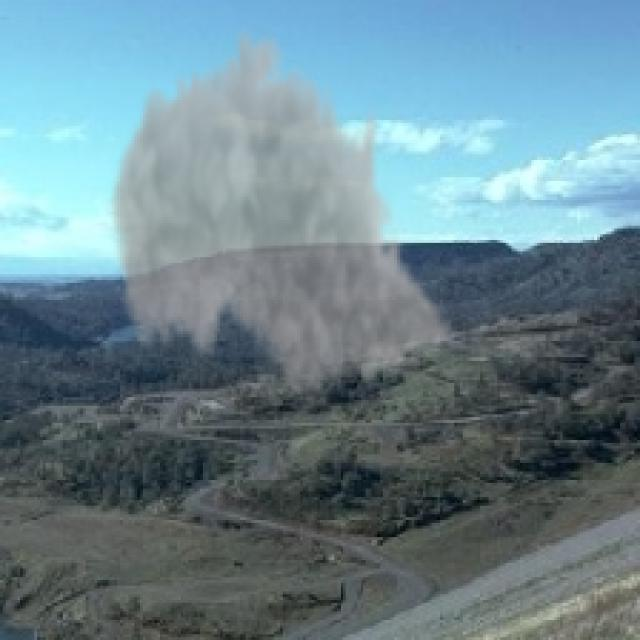Smoke: (106, 19, 457, 412)
